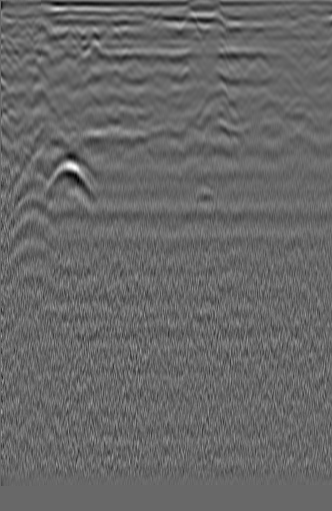상수: (284, 18, 322, 49)
오수: (1, 32, 22, 77)
우수: (136, 12, 176, 53)
